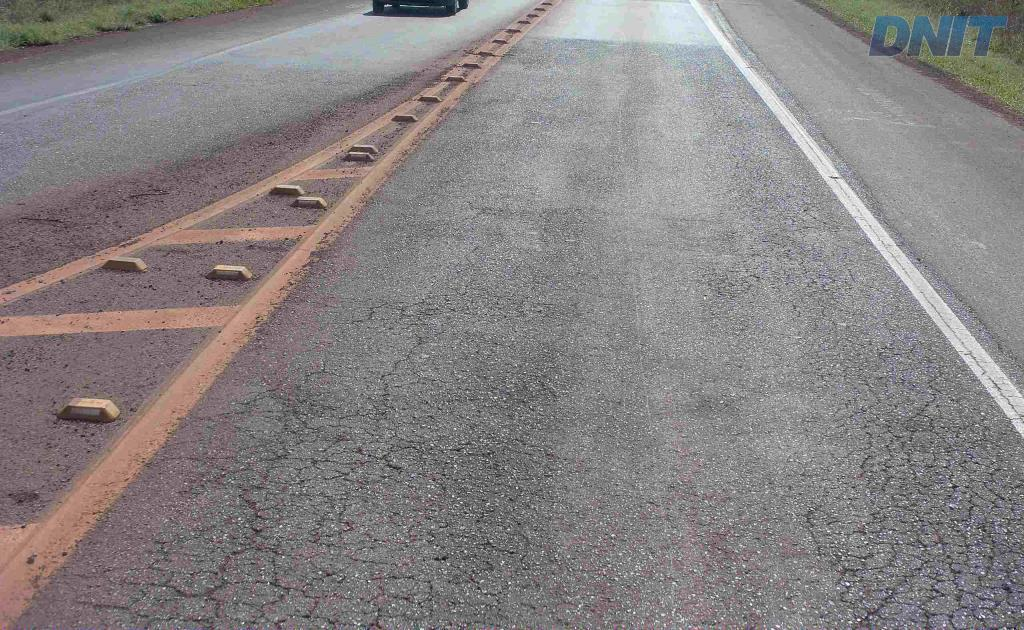crack: (946, 512, 1023, 587)
